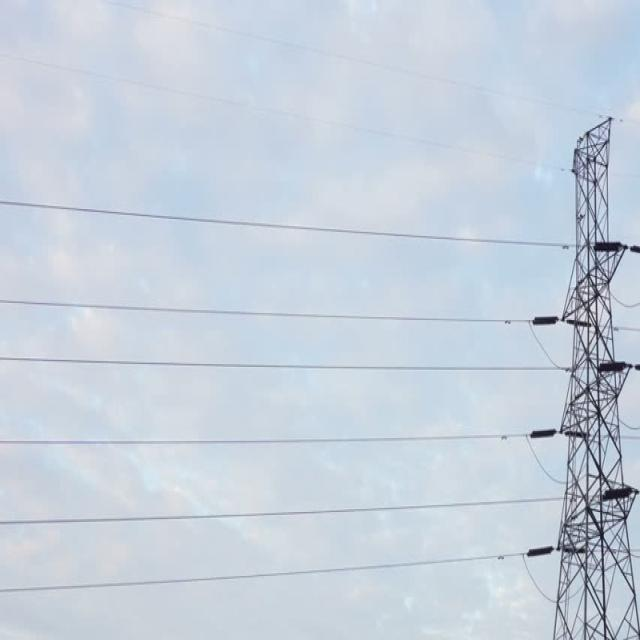non-critical vegetation: (540, 134, 633, 636)
